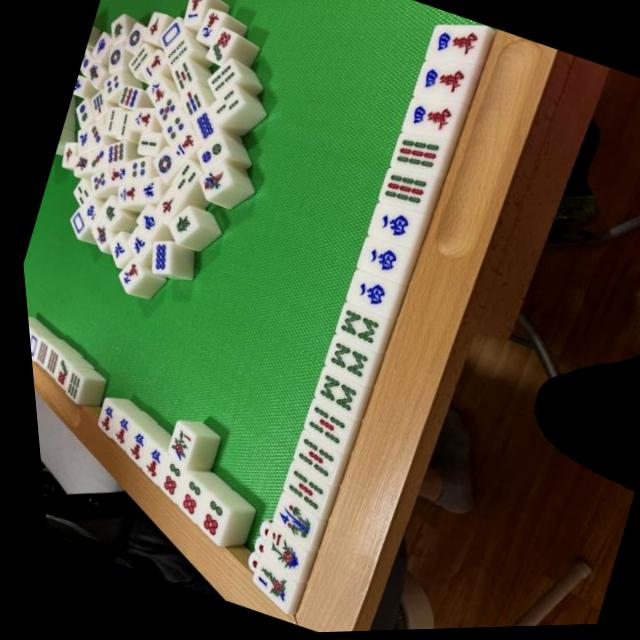bf1: (237, 562, 287, 607)
bf4: (258, 499, 311, 544)
bs2: (247, 529, 300, 576)
hww: (354, 239, 404, 283), (342, 272, 391, 316), (365, 205, 414, 248)
sb5: (281, 436, 336, 482), (270, 466, 323, 513), (294, 403, 346, 448)
sb8: (303, 370, 357, 417), (315, 338, 367, 383), (327, 305, 379, 349)
sb9: (386, 132, 442, 179), (374, 167, 429, 214)
sc4: (428, 19, 484, 69), (413, 60, 470, 109), (402, 97, 456, 144)
